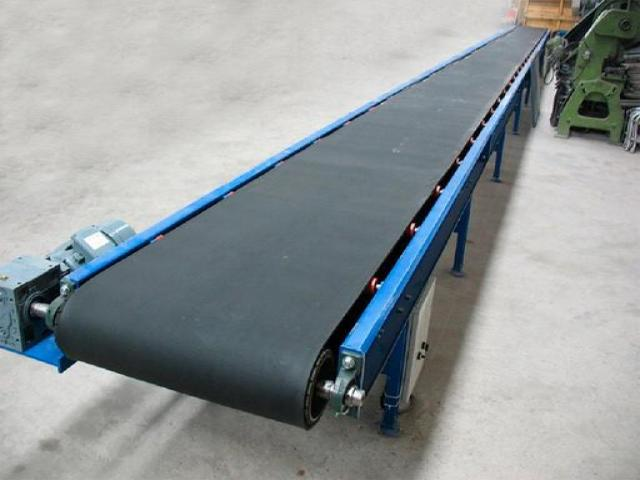conveyor: (0, 21, 555, 436)
